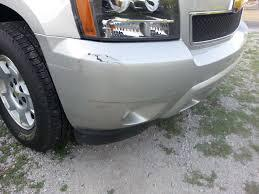front-bumper-dent: (27, 28, 166, 132)
